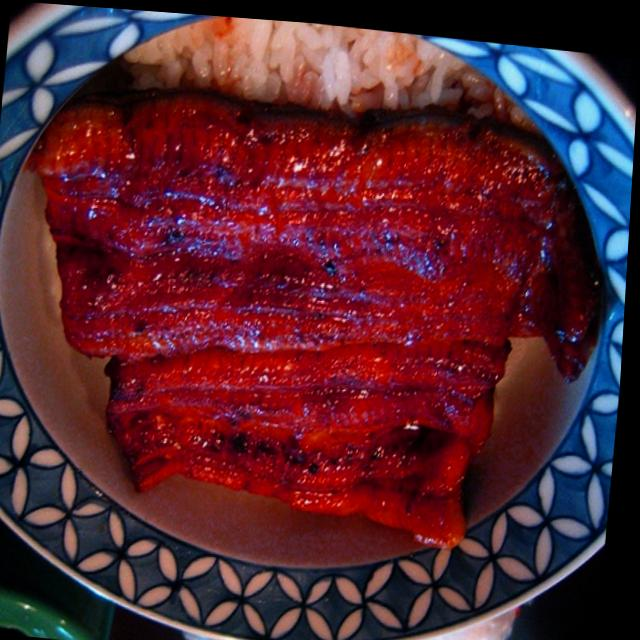熟制海鲜: (0, 12, 634, 640)
